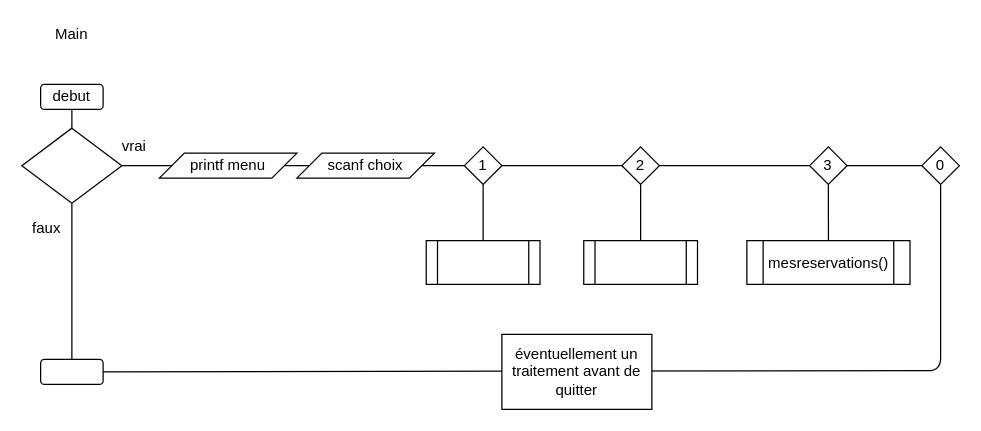
Some shapes in this 981 by 431 pixel diagram are drawn without their labels. The shapes that lost their labels are listed below. From the top down, each one's centre as x and y in pixels, then its label:
point (71, 165): choix =! 0
point (482, 261): reserver()
point (640, 261): consulter()
point (71, 371): fin
